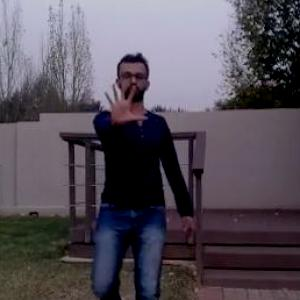follow_hand: (100, 79, 149, 126)
